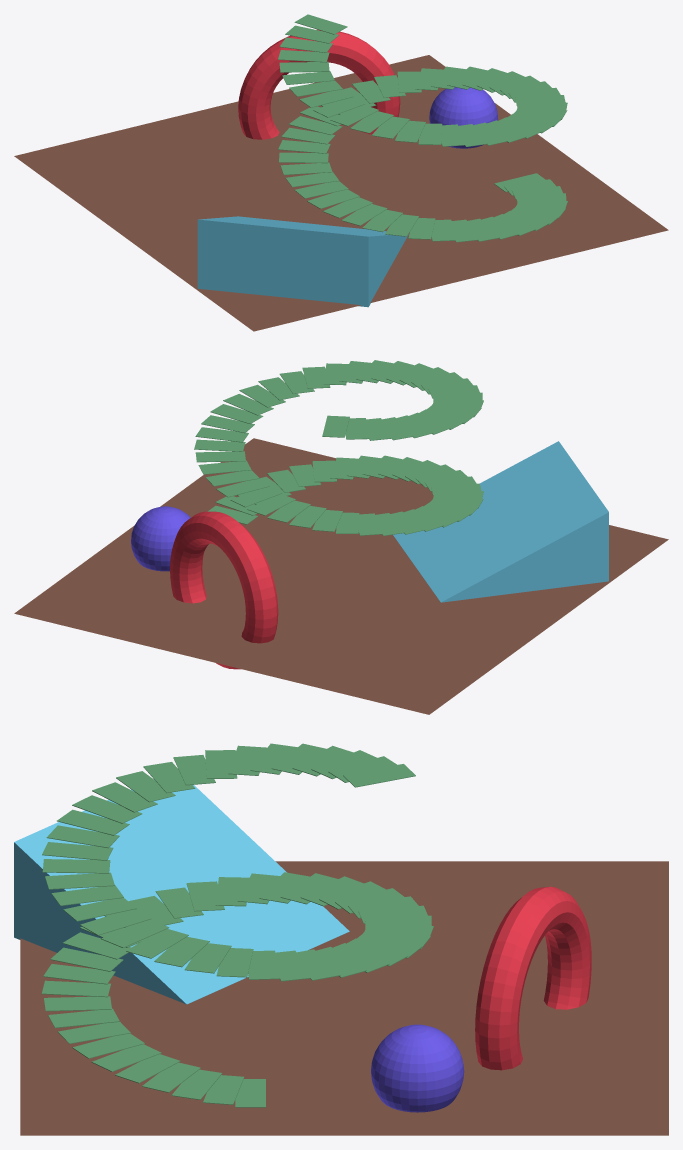
Rendered from space.glb.
3 views of the same model, one above another, from view 1: azimuth 30°, elevation 25°; view 2: azimuth 150°, elevation 25°; view 3: azimuth 270°, elevation 25° (orthographic). The views are drawn at different scales.
Visible parts, largest first — view 1: Plane, Cube.001, Cube, Torus.001, Sphere; view 2: Plane, Cube.001, Cube, Torus.001, Sphere; view 3: Plane, Cube.001, Cube, Torus.001, Sphere.
Part boxes in pixels (left/top/right/bottom): Plane: left=14, top=55, right=668, bottom=331; Cube.001: left=278, top=14, right=567, bottom=242; Cube: left=197, top=216, right=408, bottom=307; Torus.001: left=238, top=29, right=400, bottom=139; Sphere: left=429, top=87, right=497, bottom=148; Plane: left=14, top=438, right=668, bottom=714; Cube.001: left=194, top=360, right=483, bottom=535; Cube: left=393, top=441, right=608, bottom=602; Torus.001: left=170, top=511, right=278, bottom=669; Sphere: left=131, top=506, right=190, bottom=571; Plane: left=20, top=861, right=668, bottom=1135; Cube.001: left=41, top=743, right=433, bottom=1107; Cube: left=14, top=779, right=349, bottom=1004; Torus.001: left=475, top=886, right=591, bottom=1070; Sphere: left=371, top=1024, right=464, bottom=1112.
Size of the model in its own units: 1949 by 940 by 1968.
